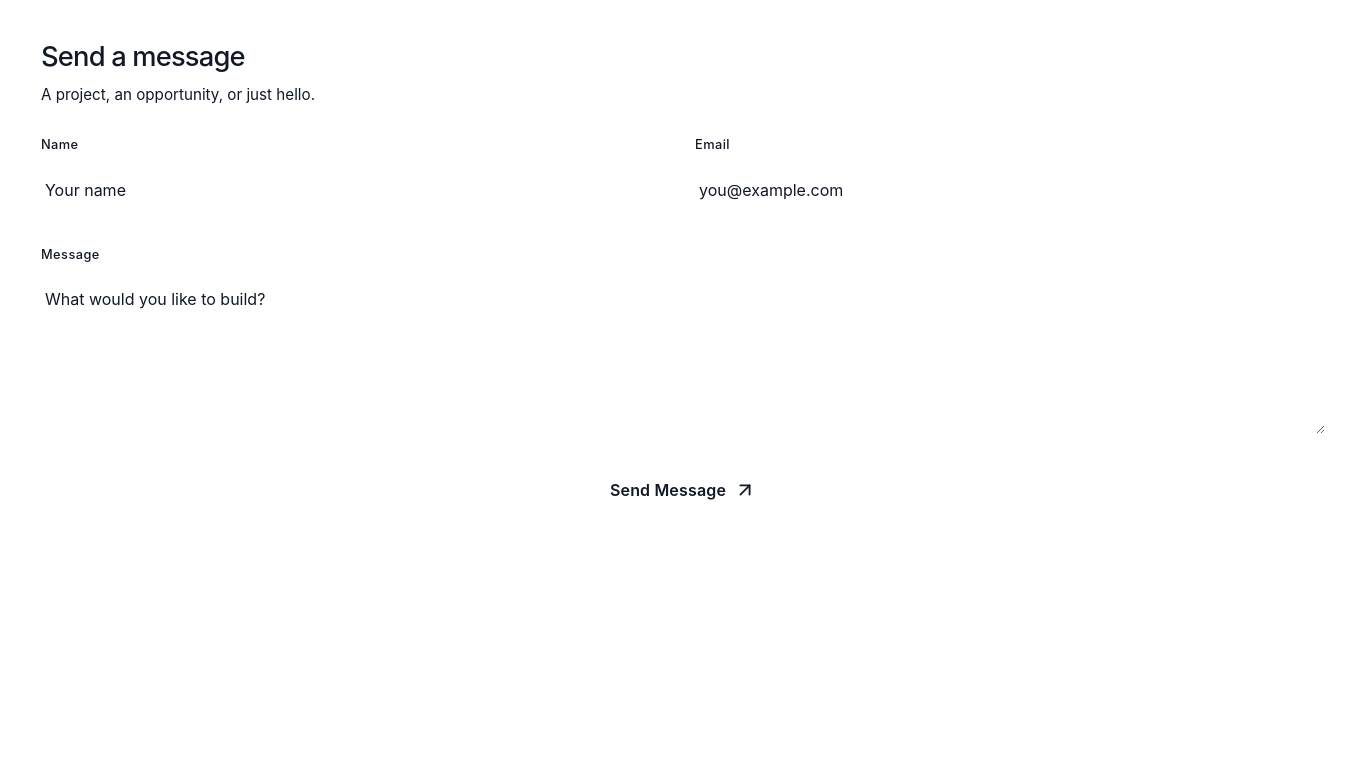
ContactForm › shows field errors and clears them when the visitor corrects the draft
Submit the form "Name"
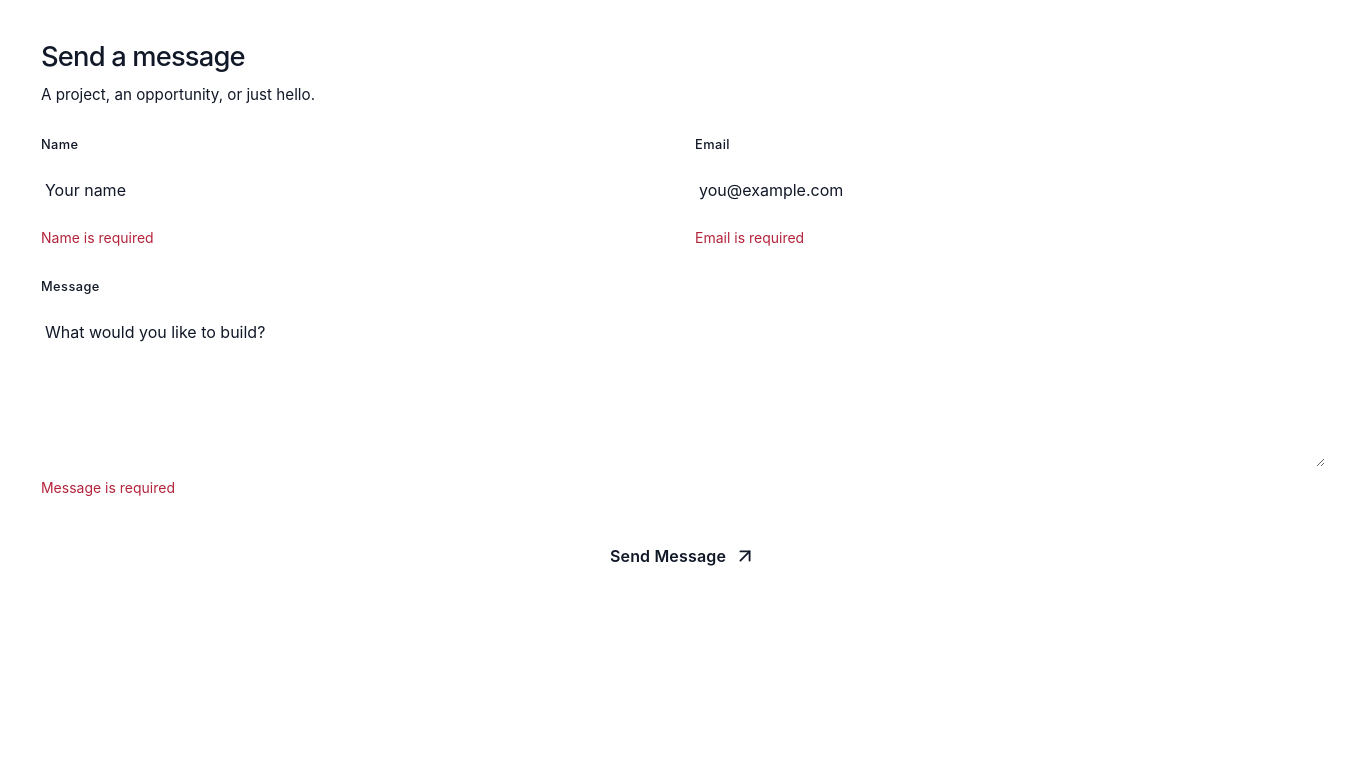
Expected: the number of messages is 3, [41,229,154,246]; [695,229,804,246]; [41,479,175,496]
Type "Leul" into the field labelled "Name" at (356, 190), box [41,164,671,216]
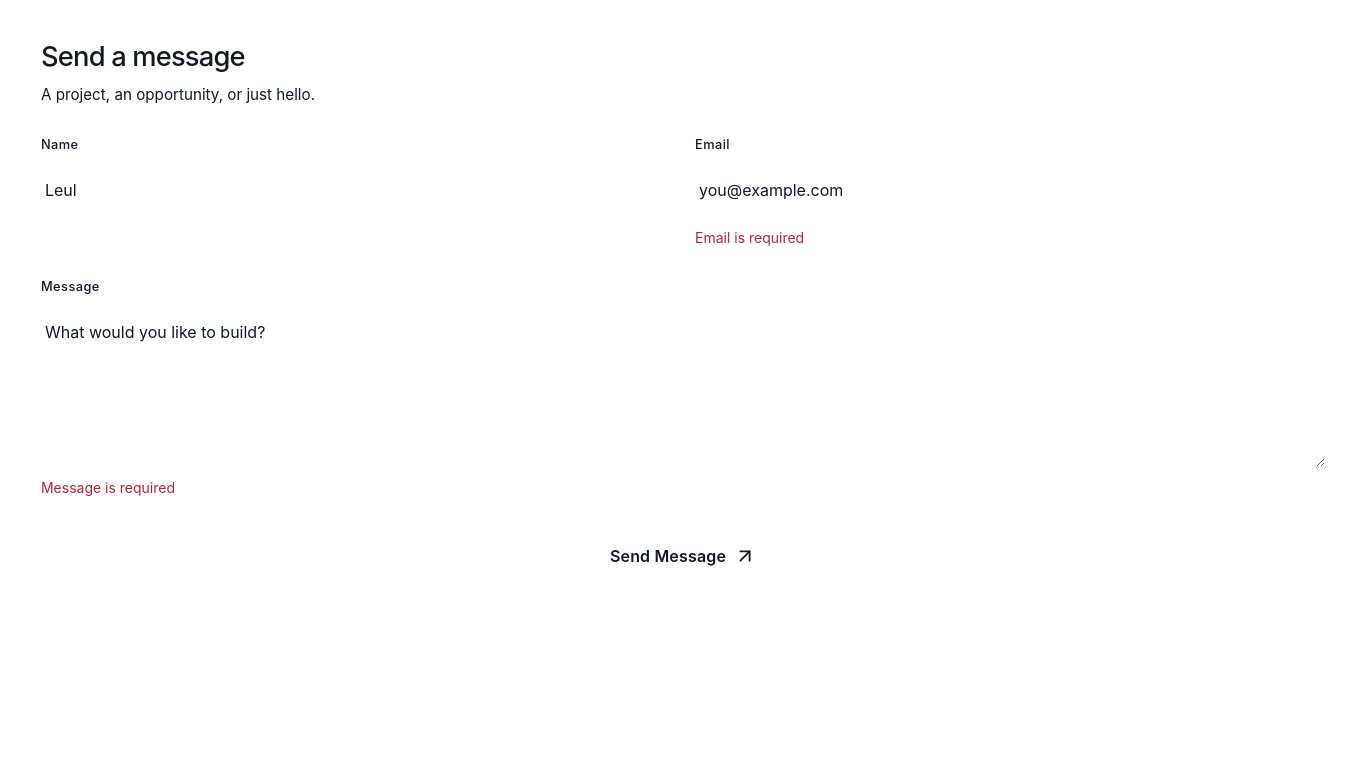
Expected: the text "Name is required" is gone
